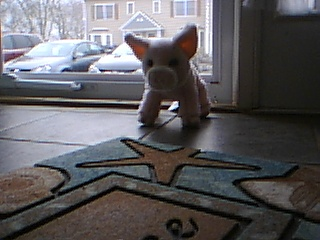piggy: (123, 21, 215, 130)
